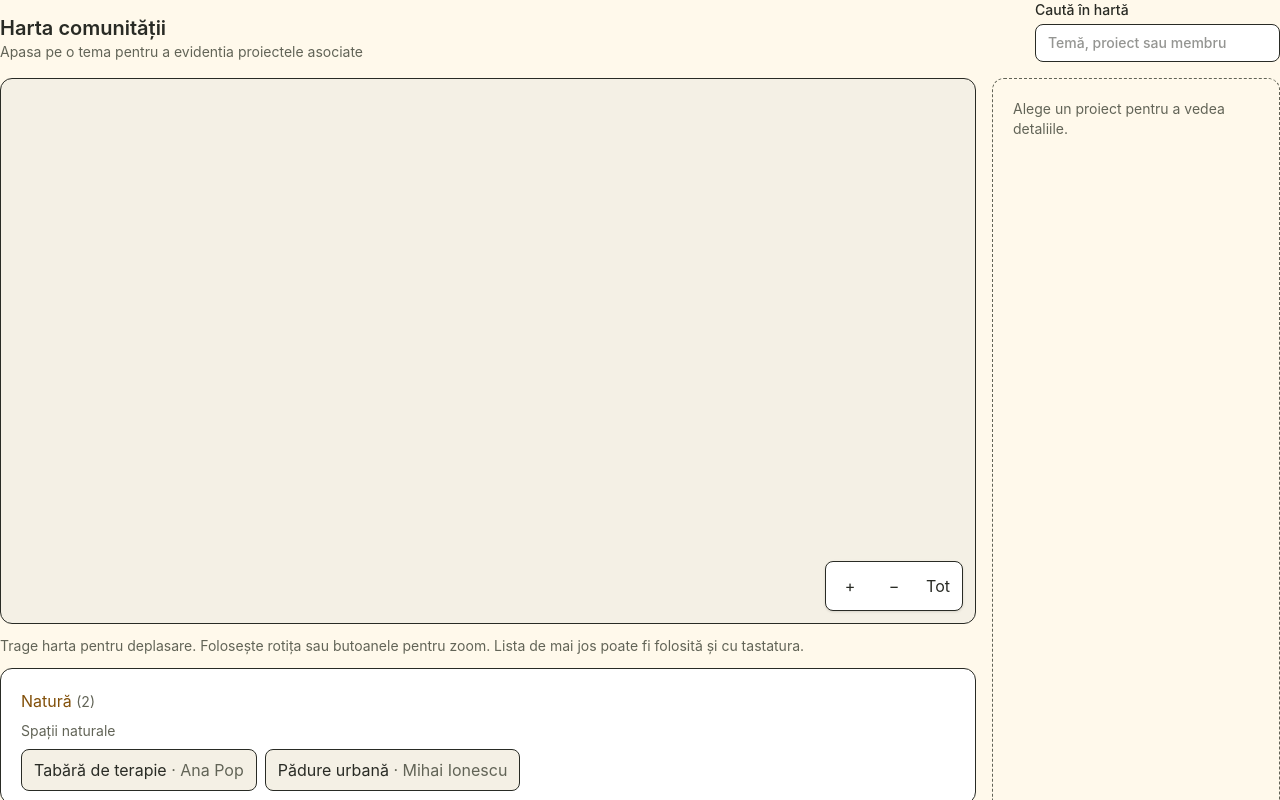
Test: Community Map › searches titles, member names, and themes locally
Type "terapie" into the search field labelled "Caută în hartă". click: (1158, 43)
box: [1035,24,1279,62]
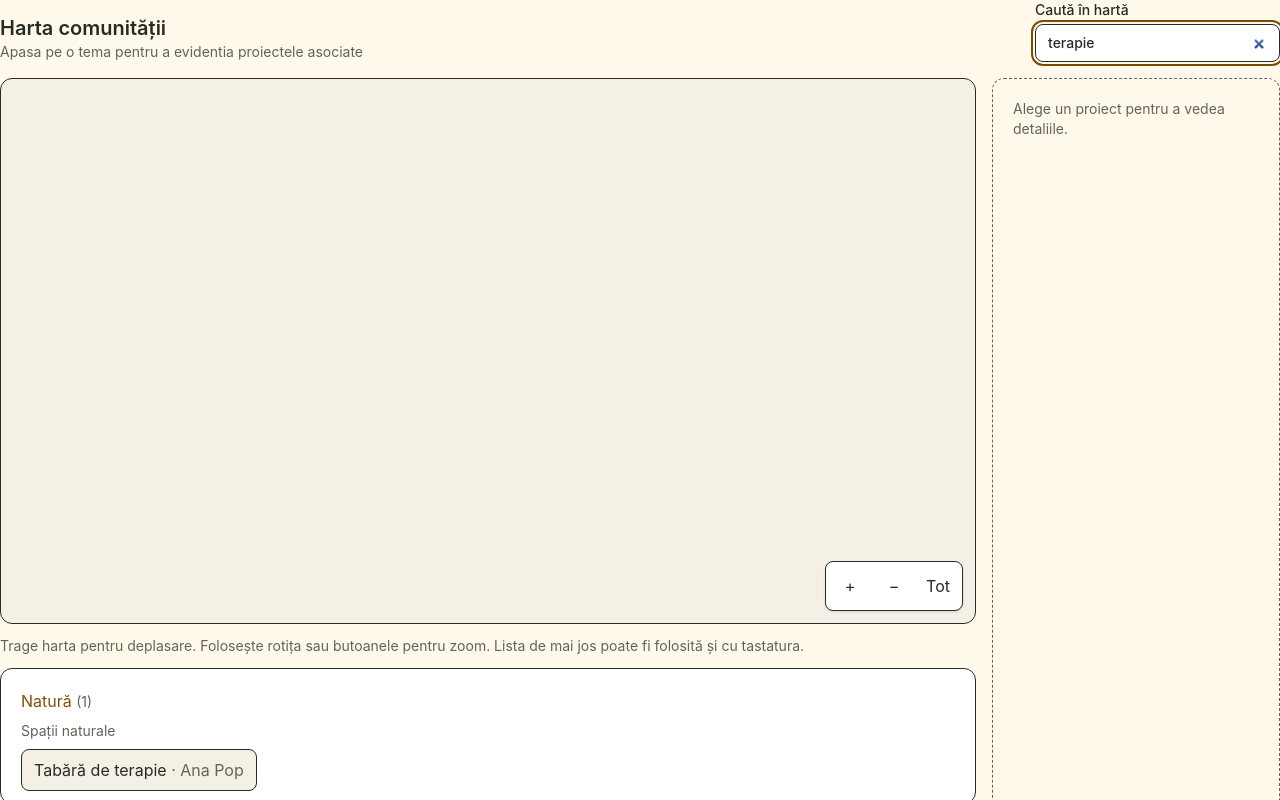
Check: the button "Pădure urbană" is gone
Replace the text in the search field labelled "Caută în hartă" with "Mihai". click: (1158, 43)
box: [1035,24,1279,62]
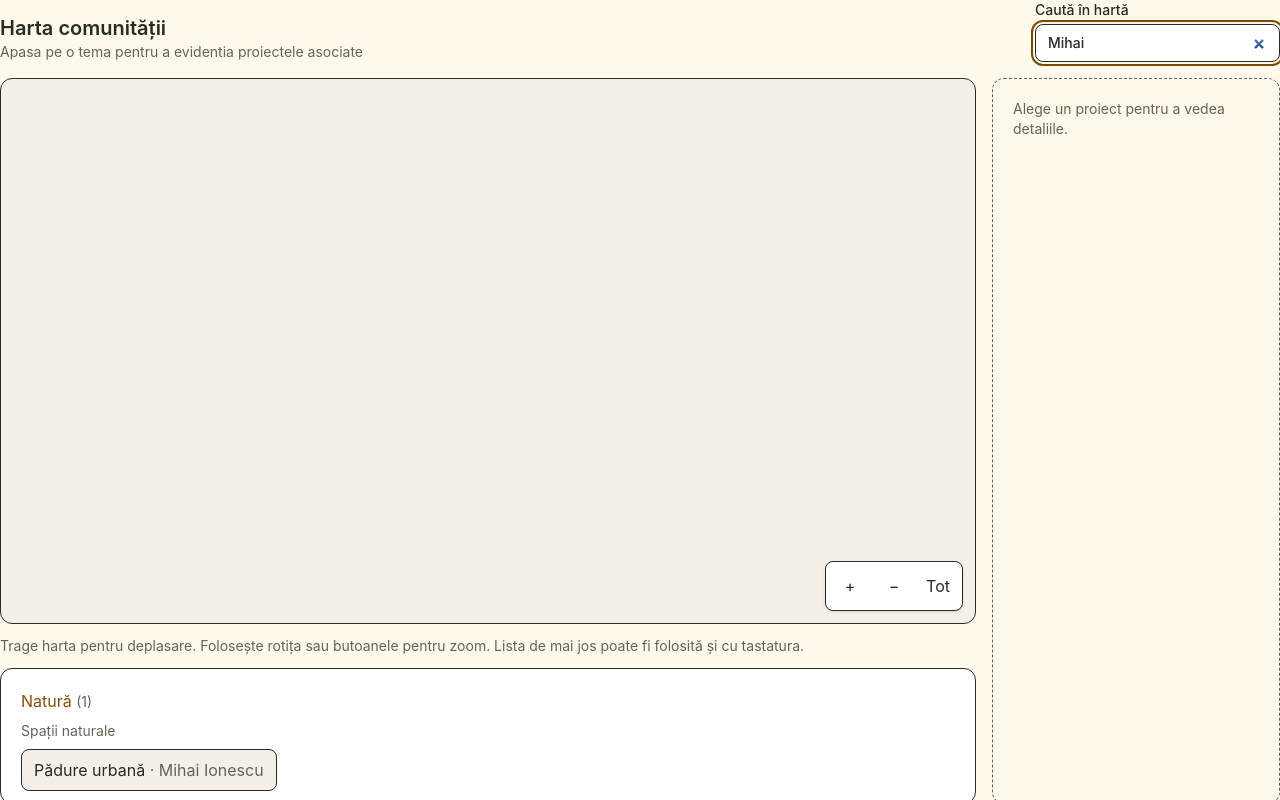
Check: the button "Pădure urbană · Mihai Ionescu" is shown, box [21,749,277,791]
Replace the text in the search field labelled "Caută în hartă" with "necunoscut". click: (1158, 43)
box: [1035,24,1279,62]
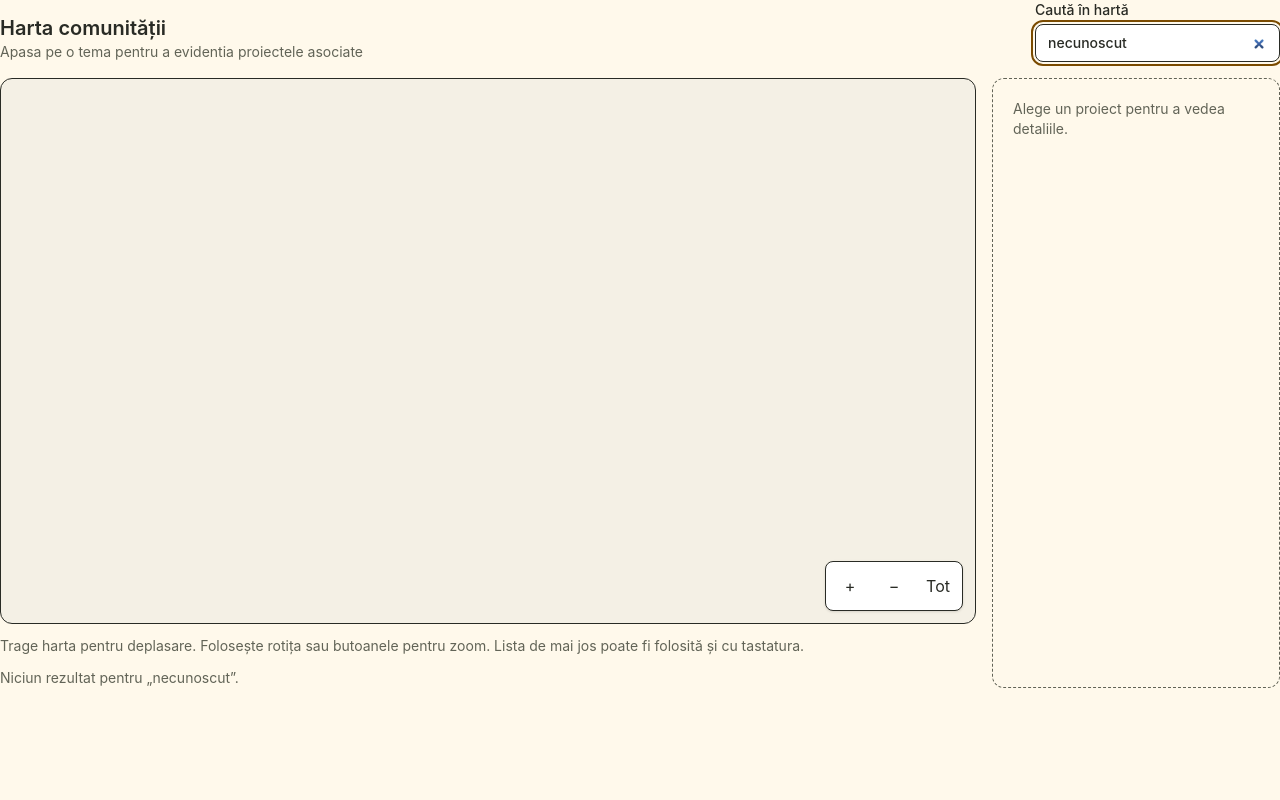
Check: the message shows "Niciun rezultat", box [0,669,152,686]
